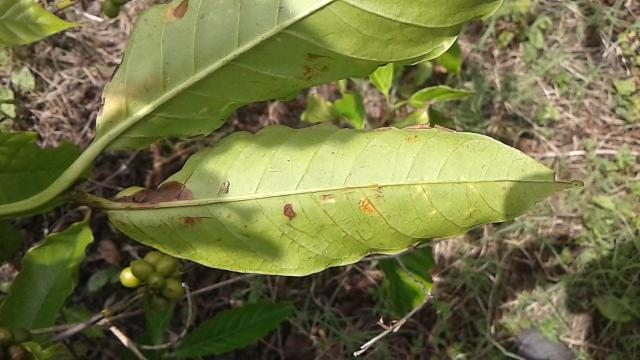rust_level_1: (107, 122, 580, 274)
